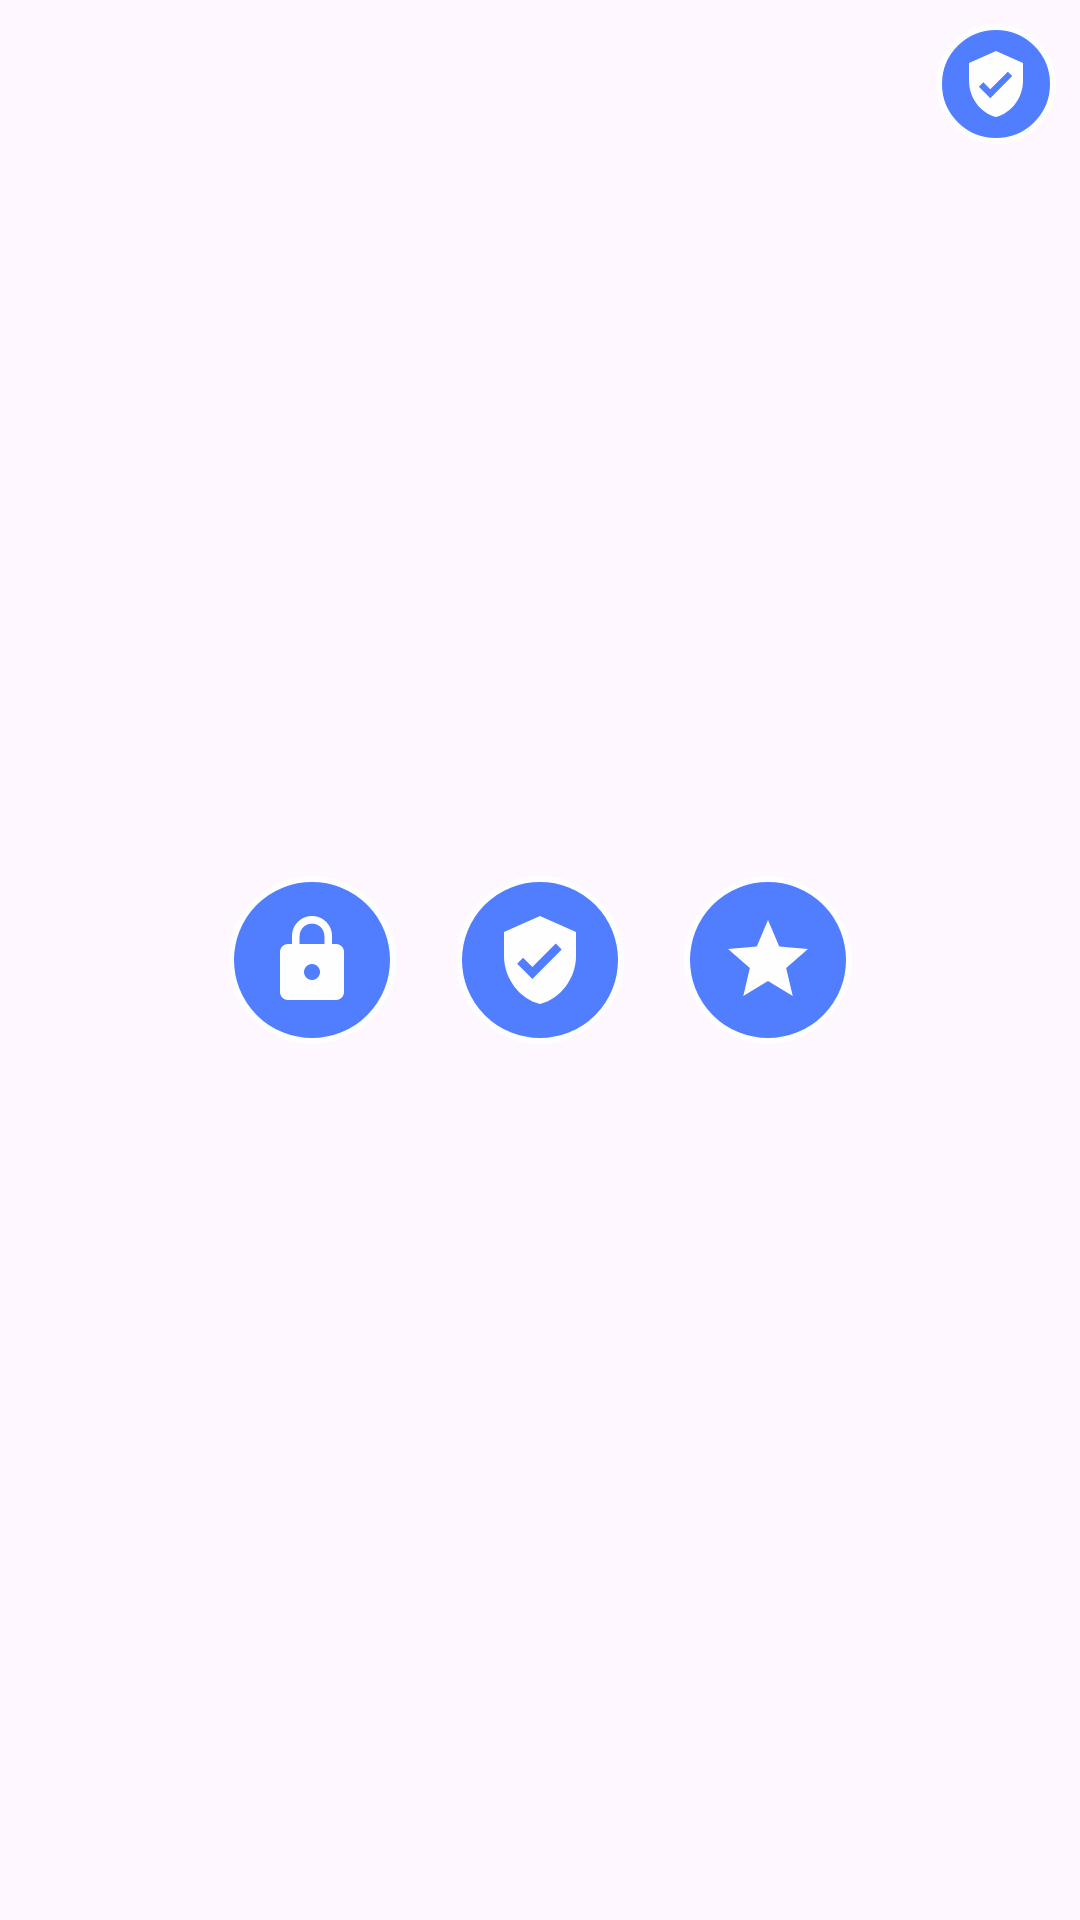

Named icons in this screenshot (1080px×1920px) and their bounding boxes, region(x1, y1, x2, y2):
별 아이콘: region(690, 882, 846, 1038)
보안 아이콘: region(942, 30, 1050, 138), region(462, 882, 618, 1038)
잠금 아이콘: region(234, 882, 390, 1038)
